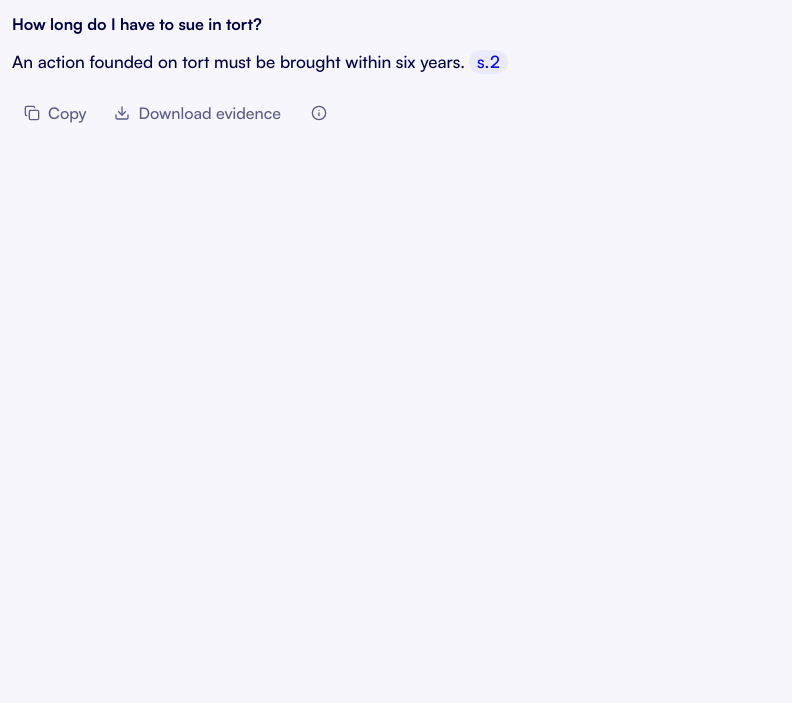
it: ActionRow › downloads evidence JSON with short id filename, toasts on match, and keeps mismatch caption visible
Later steps or results of the test are not shown.
Click the button "Download evidence" at {"x": 198, "y": 113}, box 102,91 -> 293,135
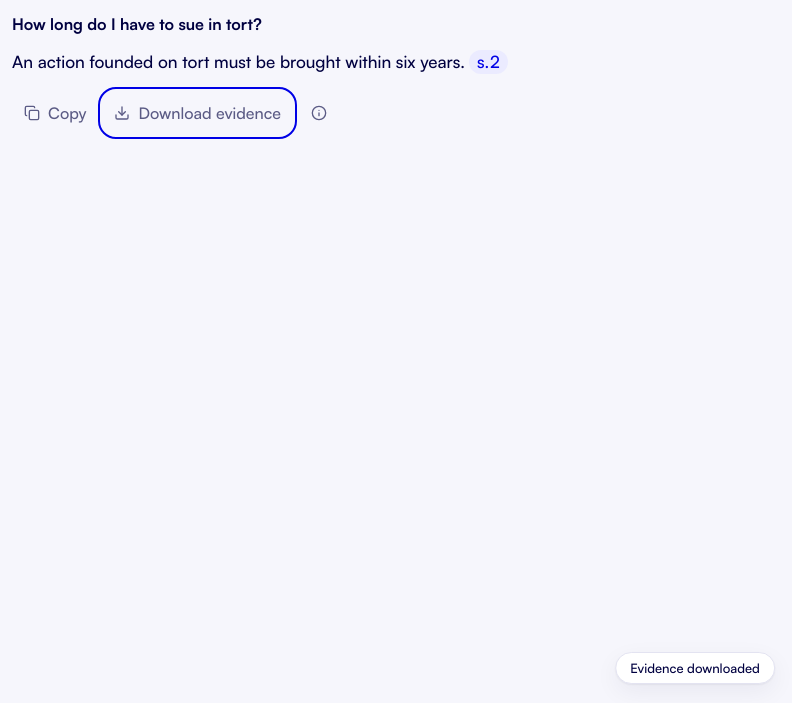
Expected: the message reads "Evidence downloaded", 630,660 -> 760,676
